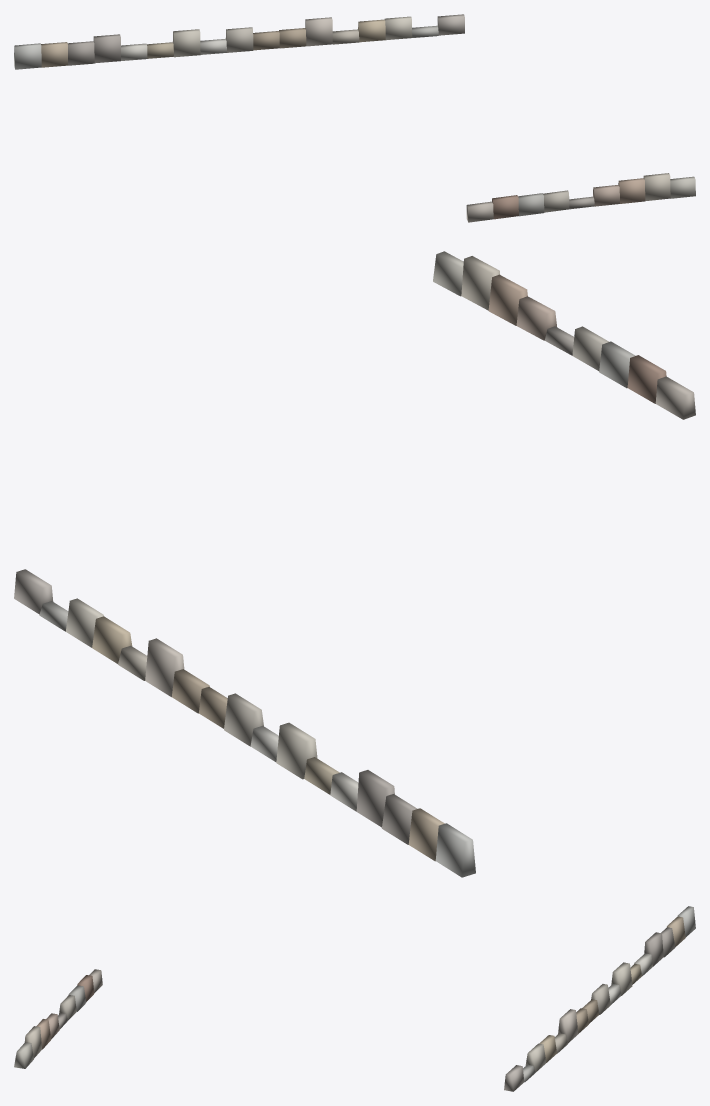
The model's file is farm_-56_-42_collision.glb.
The picture shows the model from 3 angles, top to bottom: view 1: azimuth 30°, elevation 25°; view 2: azimuth 150°, elevation 25°; view 3: azimuth 270°, elevation 25°; orthographic projection. The views are drawn at different scales.
Parts seen in each view (by area): view 1: geometry_0; view 2: geometry_0; view 3: geometry_0.
Boxes of the visible parts, box(x1,y1,x2,y2) form: geometry_0: box(14, 14, 695, 222); geometry_0: box(14, 251, 695, 877); geometry_0: box(14, 906, 695, 1091).
Size of the model in its own units: 24.83 by 3.44 by 39.84.
